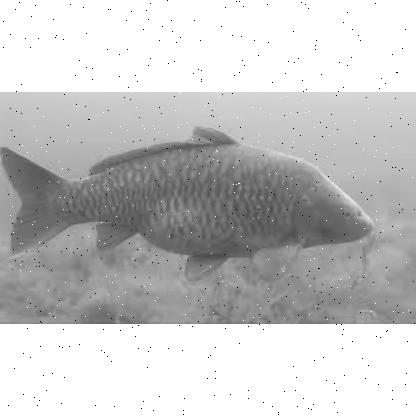ikan-mas: (0, 121, 374, 282)
